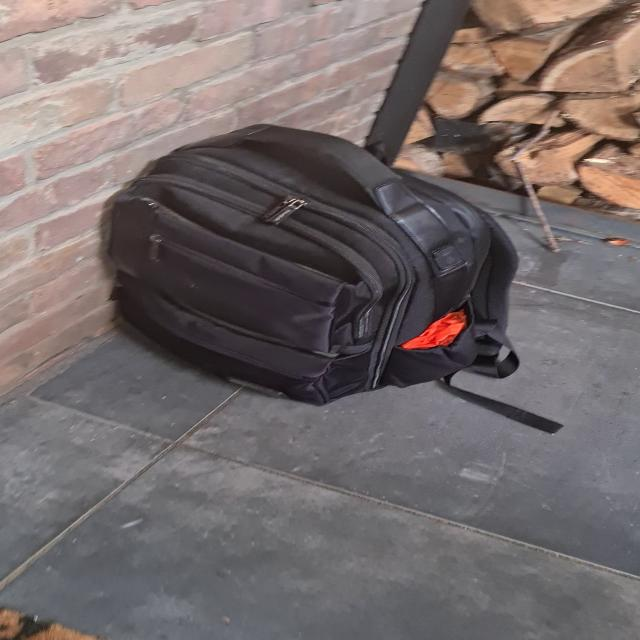backpack: (86, 111, 535, 411)
